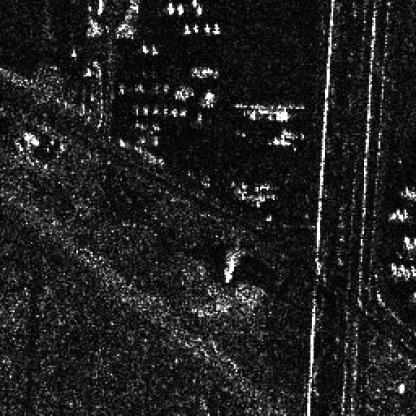airplane: (213, 13, 219, 34), (166, 0, 174, 13), (182, 24, 192, 34), (203, 22, 210, 32), (195, 6, 203, 14), (192, 25, 198, 32), (190, 0, 198, 5)
